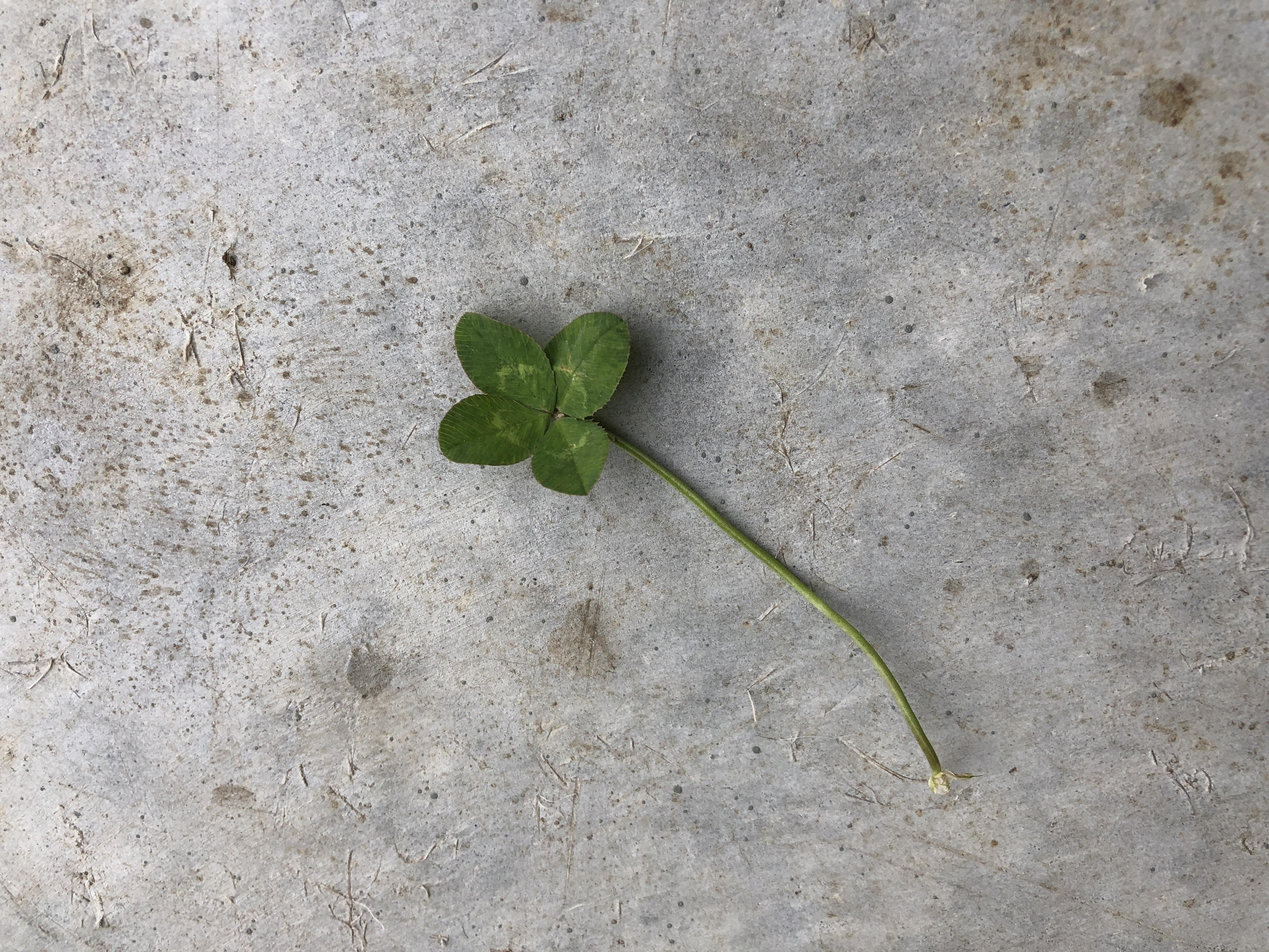4-Leaf-Clovers: (618, 327, 863, 478)
